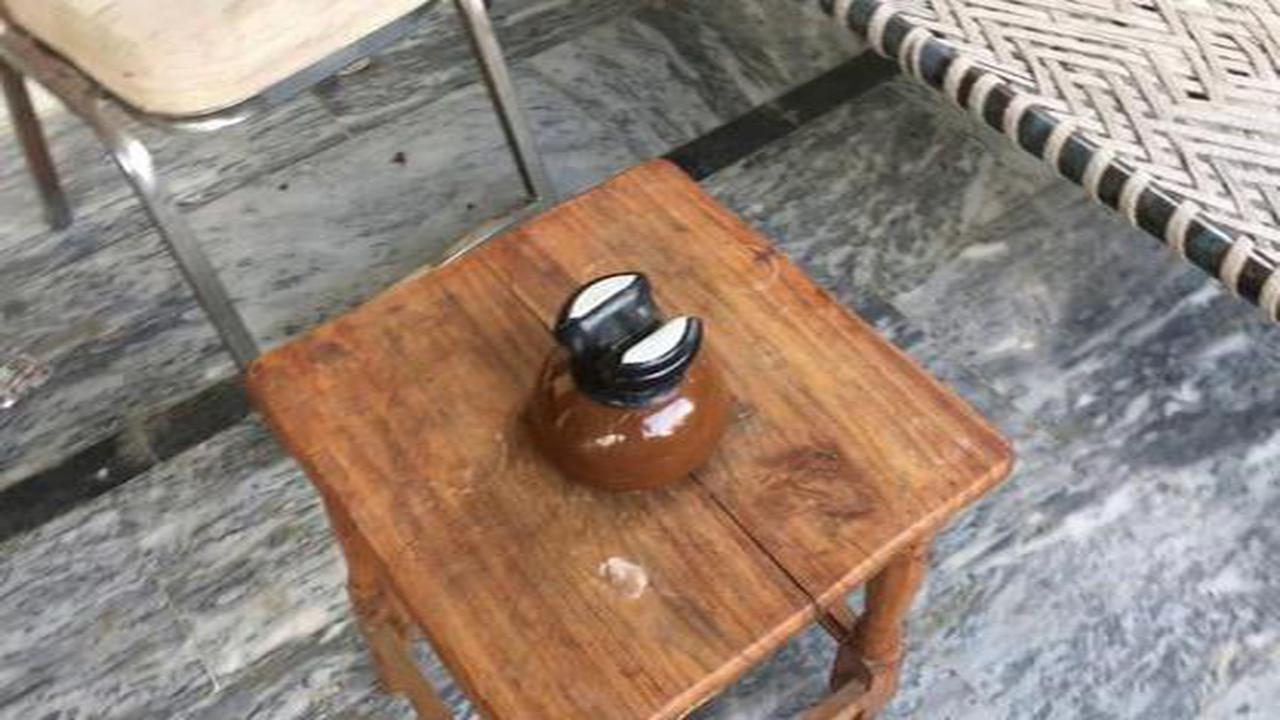insulator_pin: (502, 262, 754, 508)
